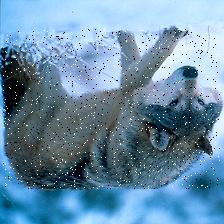WOLF: (3, 28, 220, 188)
